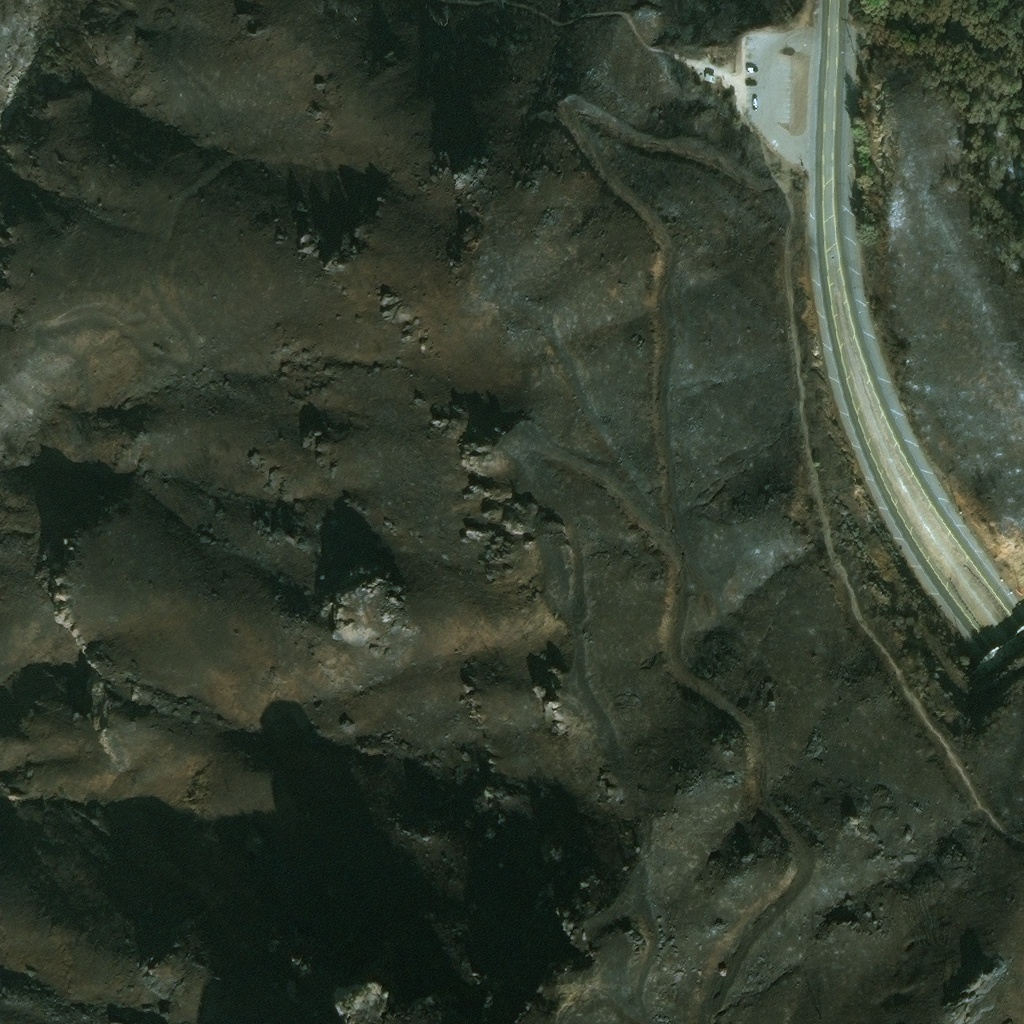4 un-classified: (705, 70, 713, 76)
